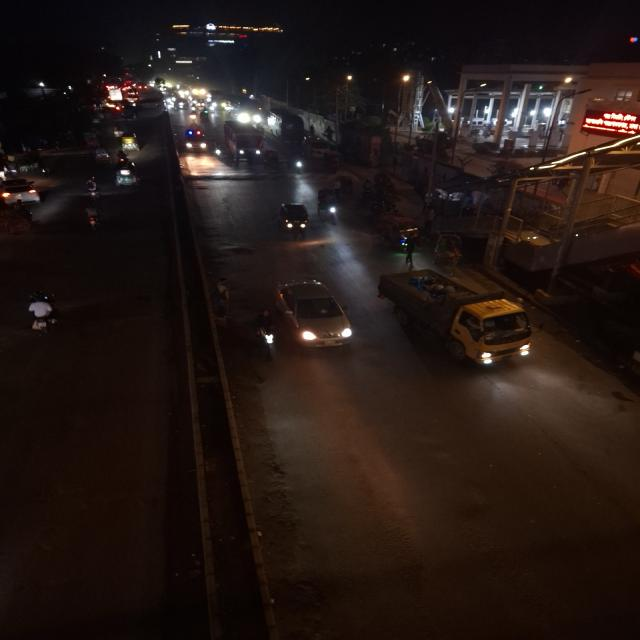bus: (222, 120, 268, 163), (267, 106, 305, 144), (226, 95, 263, 127), (134, 87, 167, 113)
car: (273, 276, 356, 352), (0, 174, 44, 203), (182, 126, 209, 155)
cng: (274, 200, 311, 240), (111, 159, 142, 188), (116, 132, 142, 152)
motorcycle: (21, 288, 62, 339), (246, 306, 282, 362), (76, 200, 106, 233), (80, 175, 104, 200), (289, 153, 304, 177), (213, 142, 225, 160)
pedestrian: (399, 234, 418, 267)
rickshaw: (372, 205, 426, 253), (429, 231, 472, 276), (1, 201, 38, 240), (316, 189, 340, 226), (260, 148, 284, 174)
truck: (375, 268, 547, 372)
